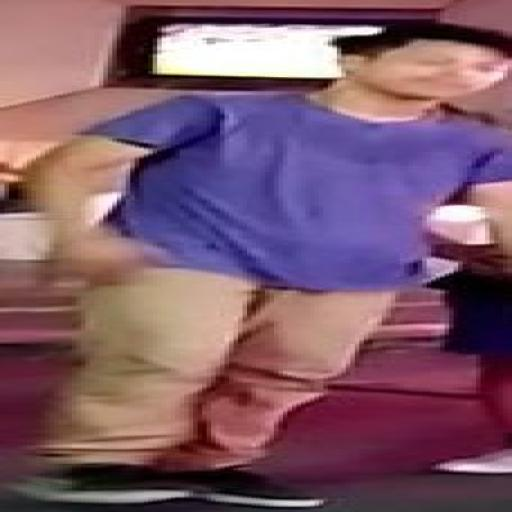person: (23, 23, 511, 506), (432, 246, 511, 474)
